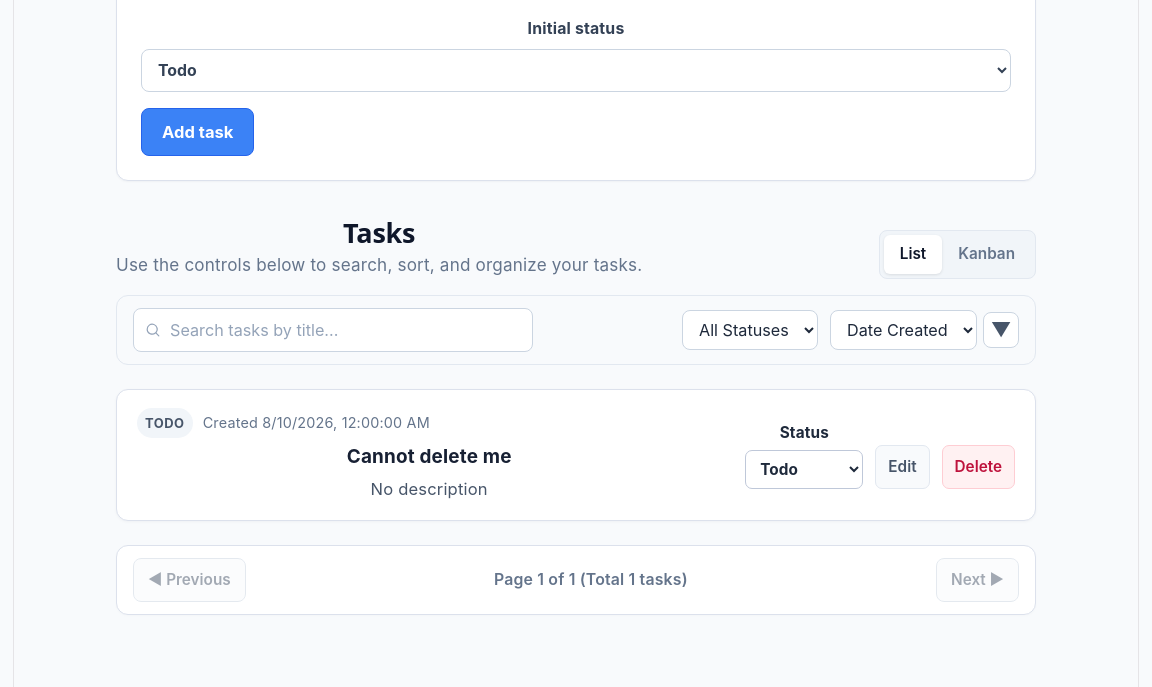
Test: App › shows error when deleting a task fails
(page scrolled)
Click the button with test id "delete-task-10": [978, 467] box [942,445,1015,489]
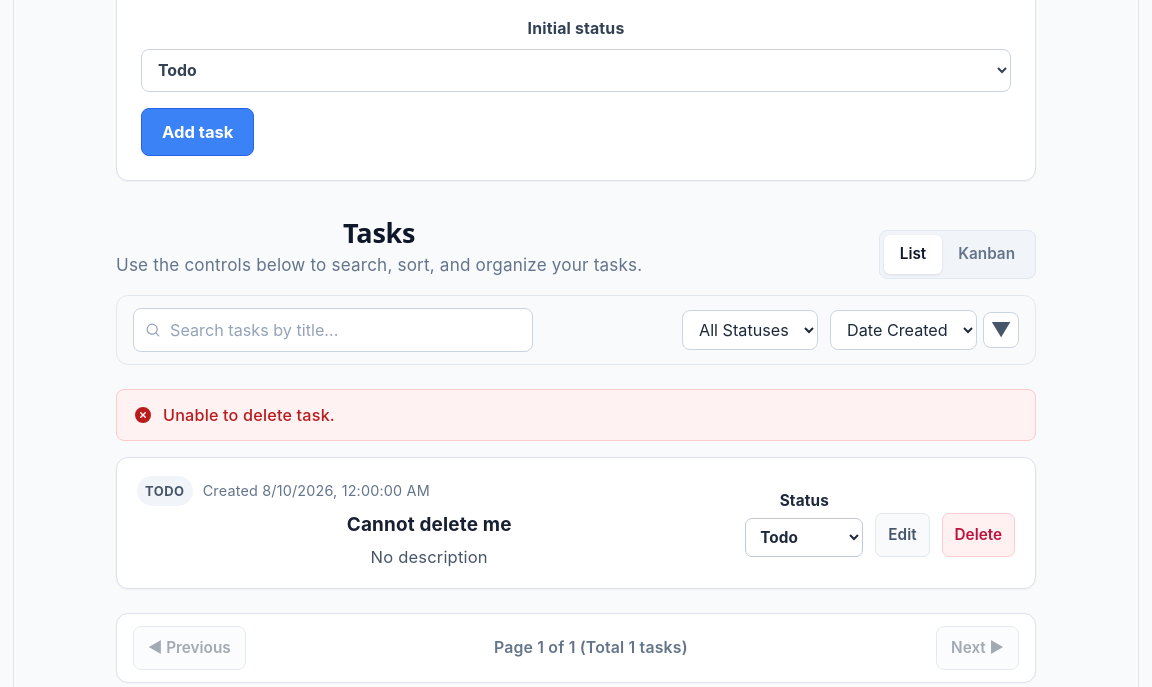
Expected: the text "Unable to delete task." is shown, [163,402,335,428]
